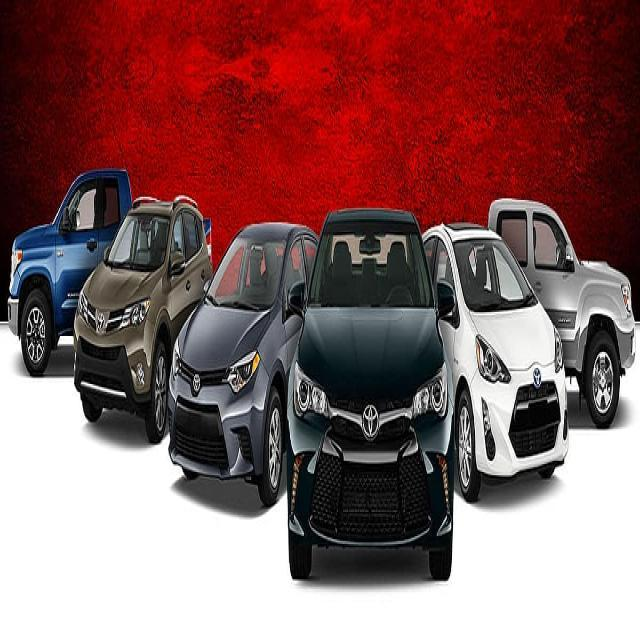pickup: (284, 205, 456, 581), (166, 219, 320, 507), (421, 220, 568, 502), (72, 190, 213, 442)
